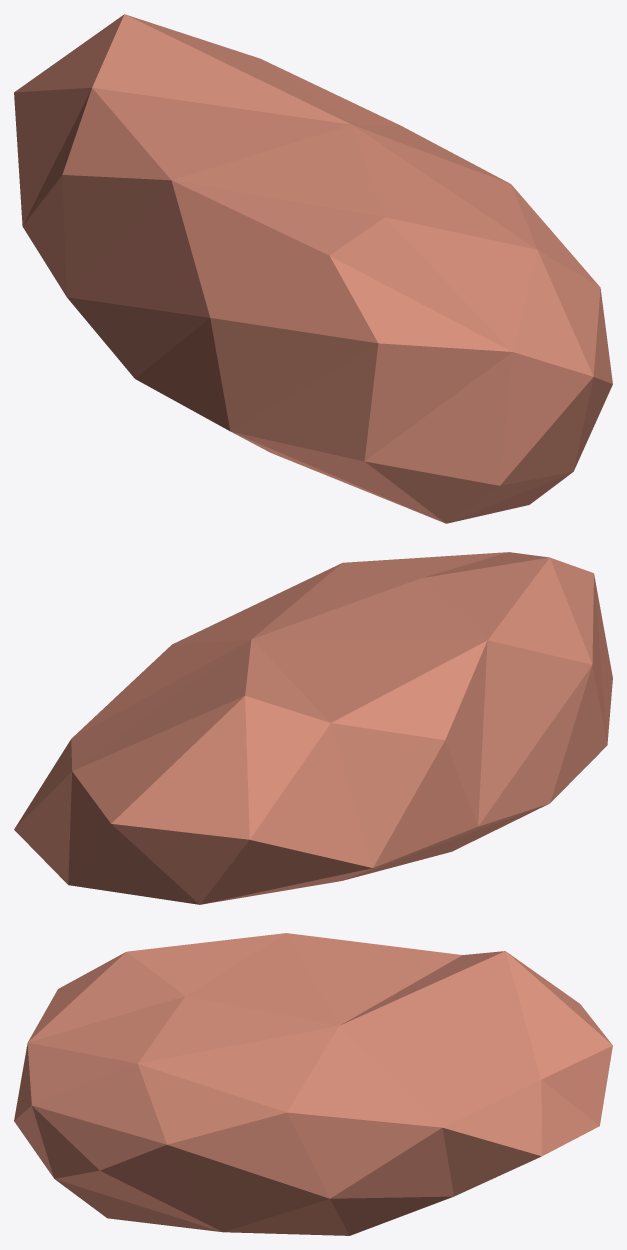
The model's file is stone_011.fbx.
The picture shows the model from 3 angles, top to bottom: view 1: azimuth 30°, elevation 25°; view 2: azimuth 150°, elevation 25°; view 3: azimuth 270°, elevation 25°; orthographic projection. The views are drawn at different scales.
Visible parts, largest first — view 1: stone_011; view 2: stone_011; view 3: stone_011.
Boxes of the visible parts, box(x1,y1,x2,y2) form: stone_011: box(14, 14, 612, 523); stone_011: box(14, 552, 612, 904); stone_011: box(14, 933, 612, 1235).
Bounding box in the file's own units: 272 × 479 × 213.
